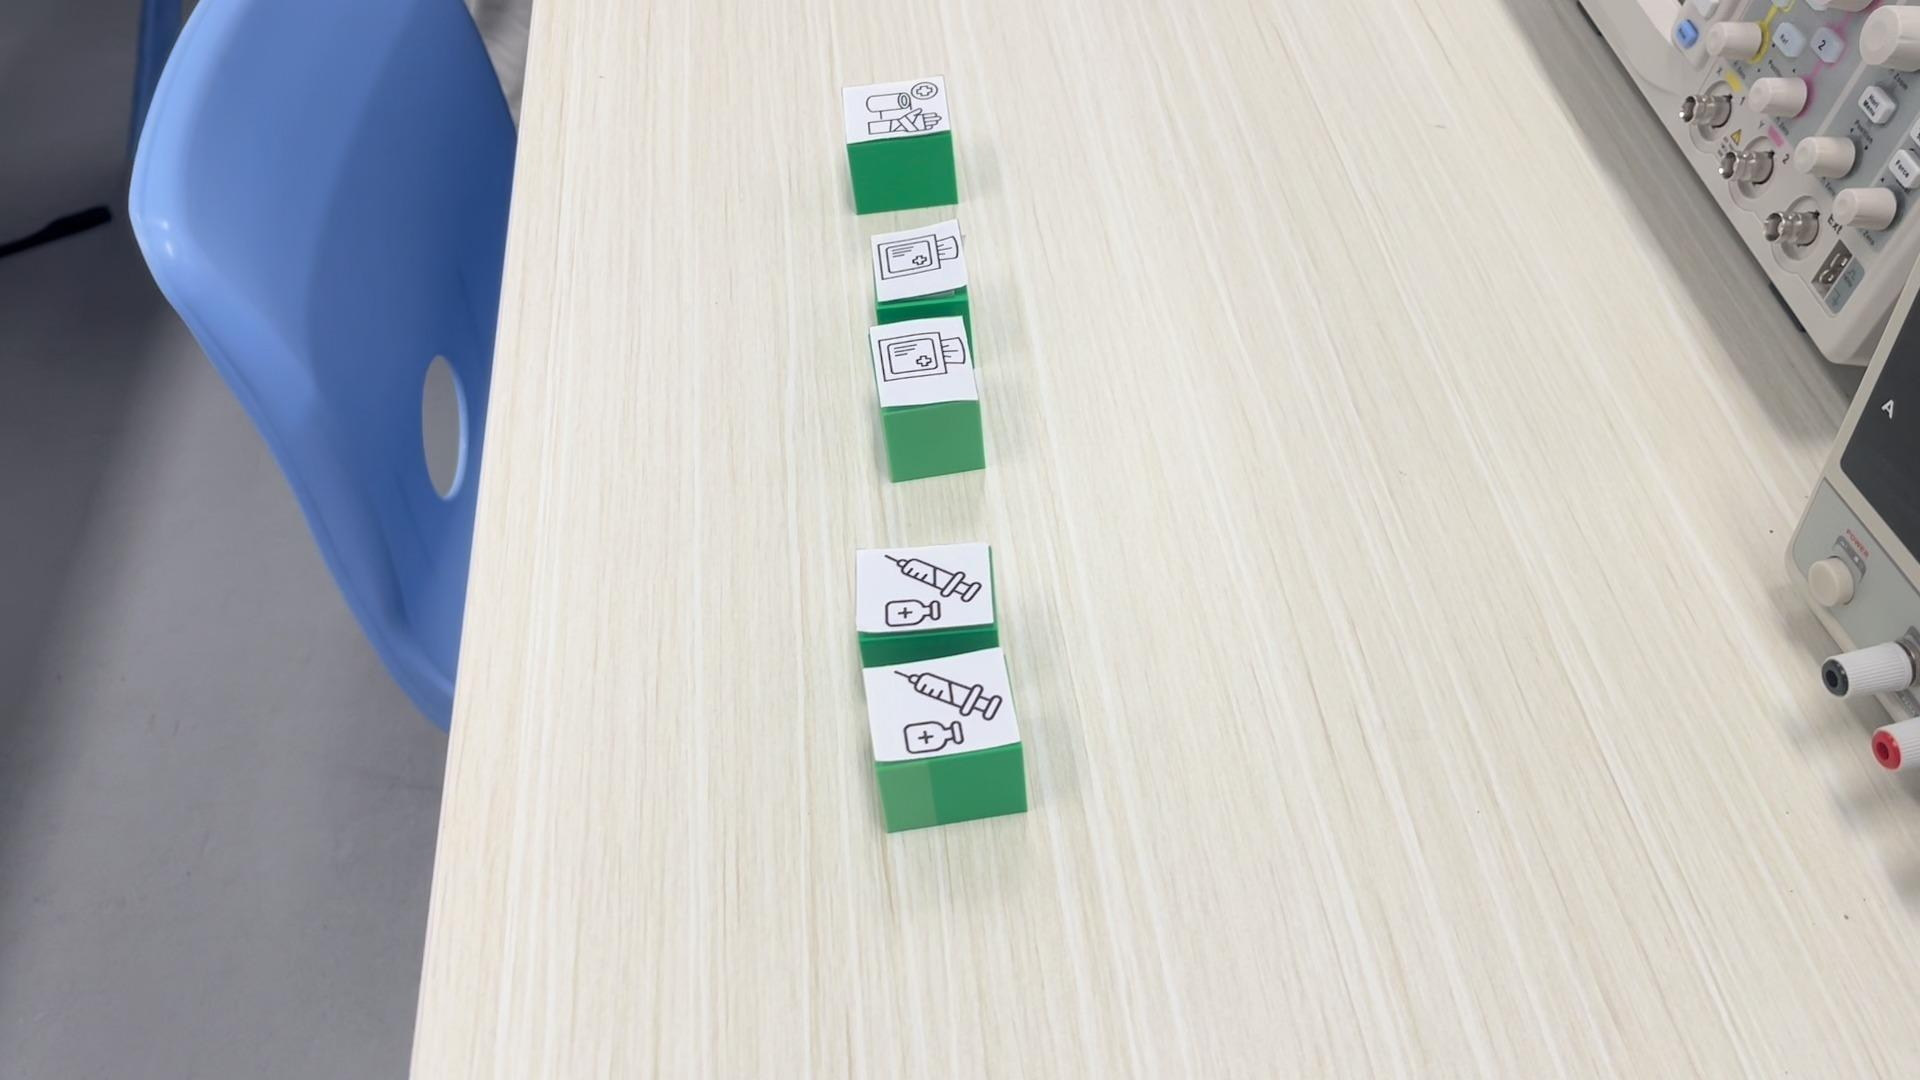Bandages: (840, 75, 959, 216)
Gauze: (873, 314, 985, 483), (870, 219, 967, 315)
antiseptic cream: (862, 640, 1029, 833), (858, 542, 1001, 647)
